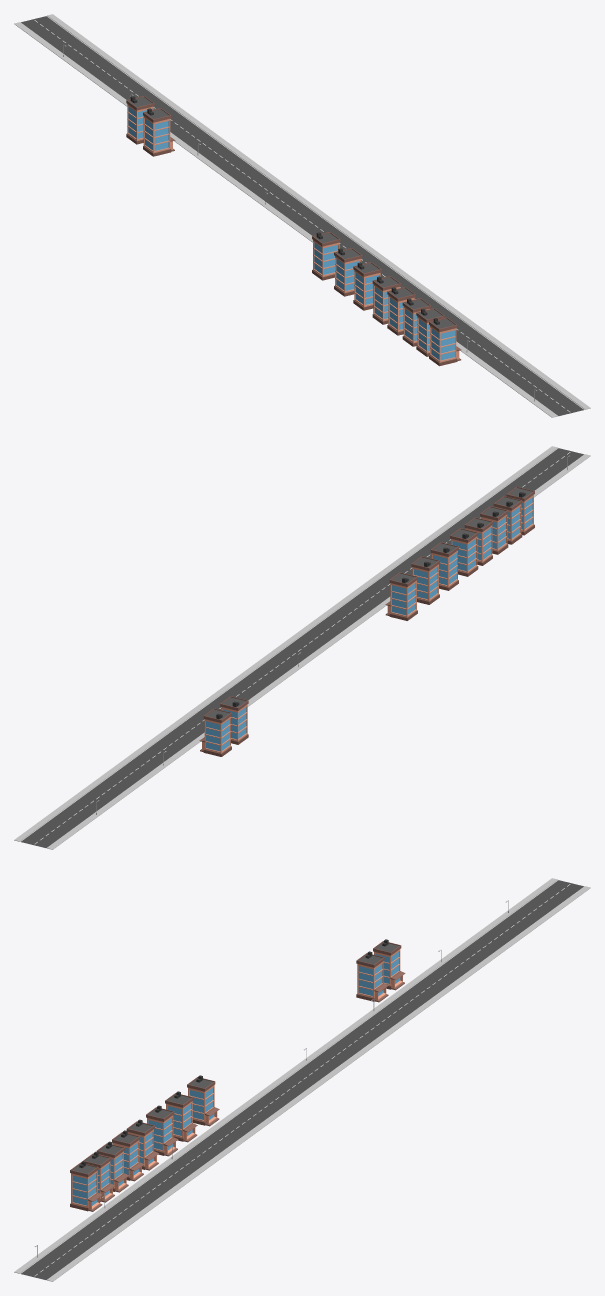
The picture shows the model from 3 angles, top to bottom: view 1: azimuth 30°, elevation 25°; view 2: azimuth 150°, elevation 25°; view 3: azimuth 330°, elevation 25°; orthographic projection.
Parts seen in each view (by area): view 1: House_3_World ap_0.001, House_3_World ap_0.002, House_3_World ap_0.010, House_3_World ap_0.008, House_3_World ap_0.009, Road Lane_01_Plane.158, Road Lane_01_Plane.060, Road Lane_01_Plane.061, Road Lane_01_Plane.059, House_3_World ap_0, Road Lane_01_Plane.003, Road Lane_01_Plane.009 (+15 smaller); view 2: House_3_World ap_0.010, House_3_World ap_0, House_3_World ap_0.009, House_3_World ap_0.007, House_3_World ap_0.008, Road Lane_01_Plane.059, Road Lane_01_Plane.170, Road Lane_01_Plane.215, Road Lane_01_Plane.158, Road Lane_01_Plane.010, Road Lane_01_Plane.061, Road Lane_01_Plane.004 (+15 smaller); view 3: House_3_World ap_0.001, House_3_World ap_0.002, House_3_World ap_0.010, House_3_World ap_0.009, House_3_World ap_0.008, House_3_World ap_0, House_3_World ap_0.006, Road Lane_01_Plane.158, Road Lane_01_Plane.060, Road Lane_01_Plane.061, Road Lane_01_Plane.005, Road Lane_01_Plane.225 (+22 smaller).
Boxes of the visible parts, x1,y1,x2,y2 form: House_3_World ap_0.001: (143,108,175,156); House_3_World ap_0.002: (429,317,461,366); House_3_World ap_0.010: (312,232,340,280); House_3_World ap_0.008: (353,262,381,310); House_3_World ap_0.009: (334,248,362,296); Road Lane_01_Plane.158: (529,391,590,417); Road Lane_01_Plane.060: (36,30,97,56); Road Lane_01_Plane.061: (81,63,142,89); Road Lane_01_Plane.059: (14,14,74,39); House_3_World ap_0: (126,96,154,144); Road Lane_01_Plane.003: (260,194,321,220); Road Lane_01_Plane.009: (462,342,523,368); House_3_World ap_0.010: (385,572,417,620); House_3_World ap_0: (199,708,231,756); House_3_World ap_0.009: (411,556,439,604); House_3_World ap_0.007: (450,528,478,576); House_3_World ap_0.008: (430,542,458,590); Road Lane_01_Plane.059: (14,823,75,849); Road Lane_01_Plane.170: (507,462,568,488); Road Lane_01_Plane.215: (238,659,299,685); Road Lane_01_Plane.158: (530,446,590,471); Road Lane_01_Plane.010: (126,741,187,767); Road Lane_01_Plane.061: (81,774,142,800); Road Lane_01_Plane.004: (283,626,344,652); House_3_World ap_0.001: (356,951,388,1002); House_3_World ap_0.002: (70,1161,102,1211); House_3_World ap_0.010: (187,1075,219,1126); House_3_World ap_0.009: (165,1091,197,1142); House_3_World ap_0.008: (146,1105,178,1156); House_3_World ap_0: (373,939,405,990); House_3_World ap_0.006: (112,1130,144,1181); Road Lane_01_Plane.158: (14,1255,75,1281); Road Lane_01_Plane.060: (507,894,568,920); Road Lane_01_Plane.061: (462,927,523,953); Road Lane_01_Plane.005: (238,1091,299,1117); Road Lane_01_Plane.225: (194,1124,254,1150).
Size of the model in its own units: 34.57 by 19.72 by 480.
23 materials, 23 textured.
